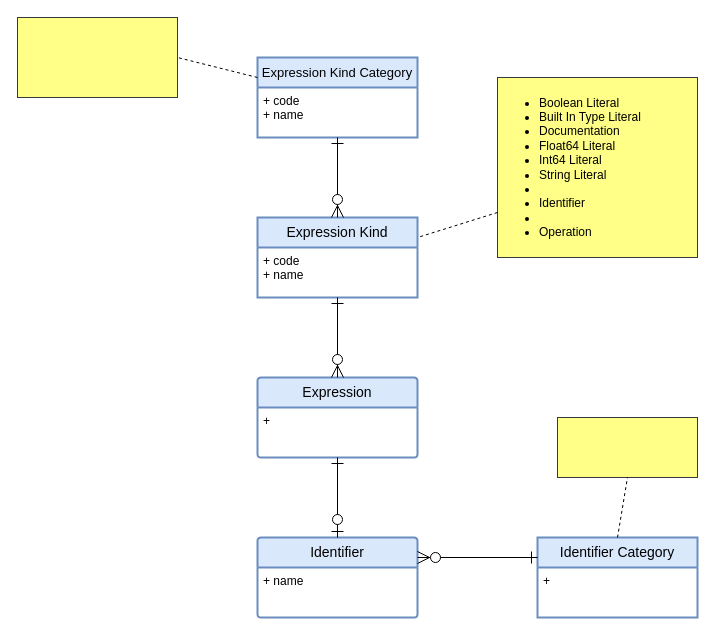
This 716x636 diagram has some shape labels left out. Here are the shapes that lost their labels. From the top down, the centre of each, then its label:
the point at 97,57: Literal Identifier Operation
the point at 627,447: Ordinary #Tag @Annotation
